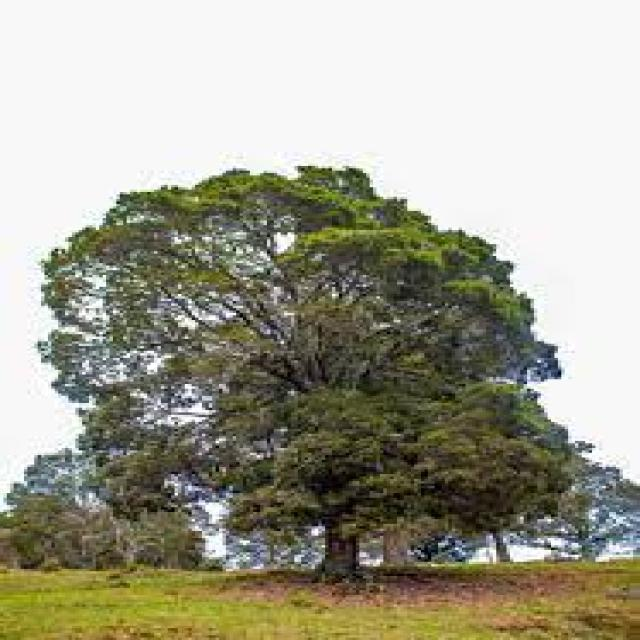roble: (50, 166, 582, 577)
